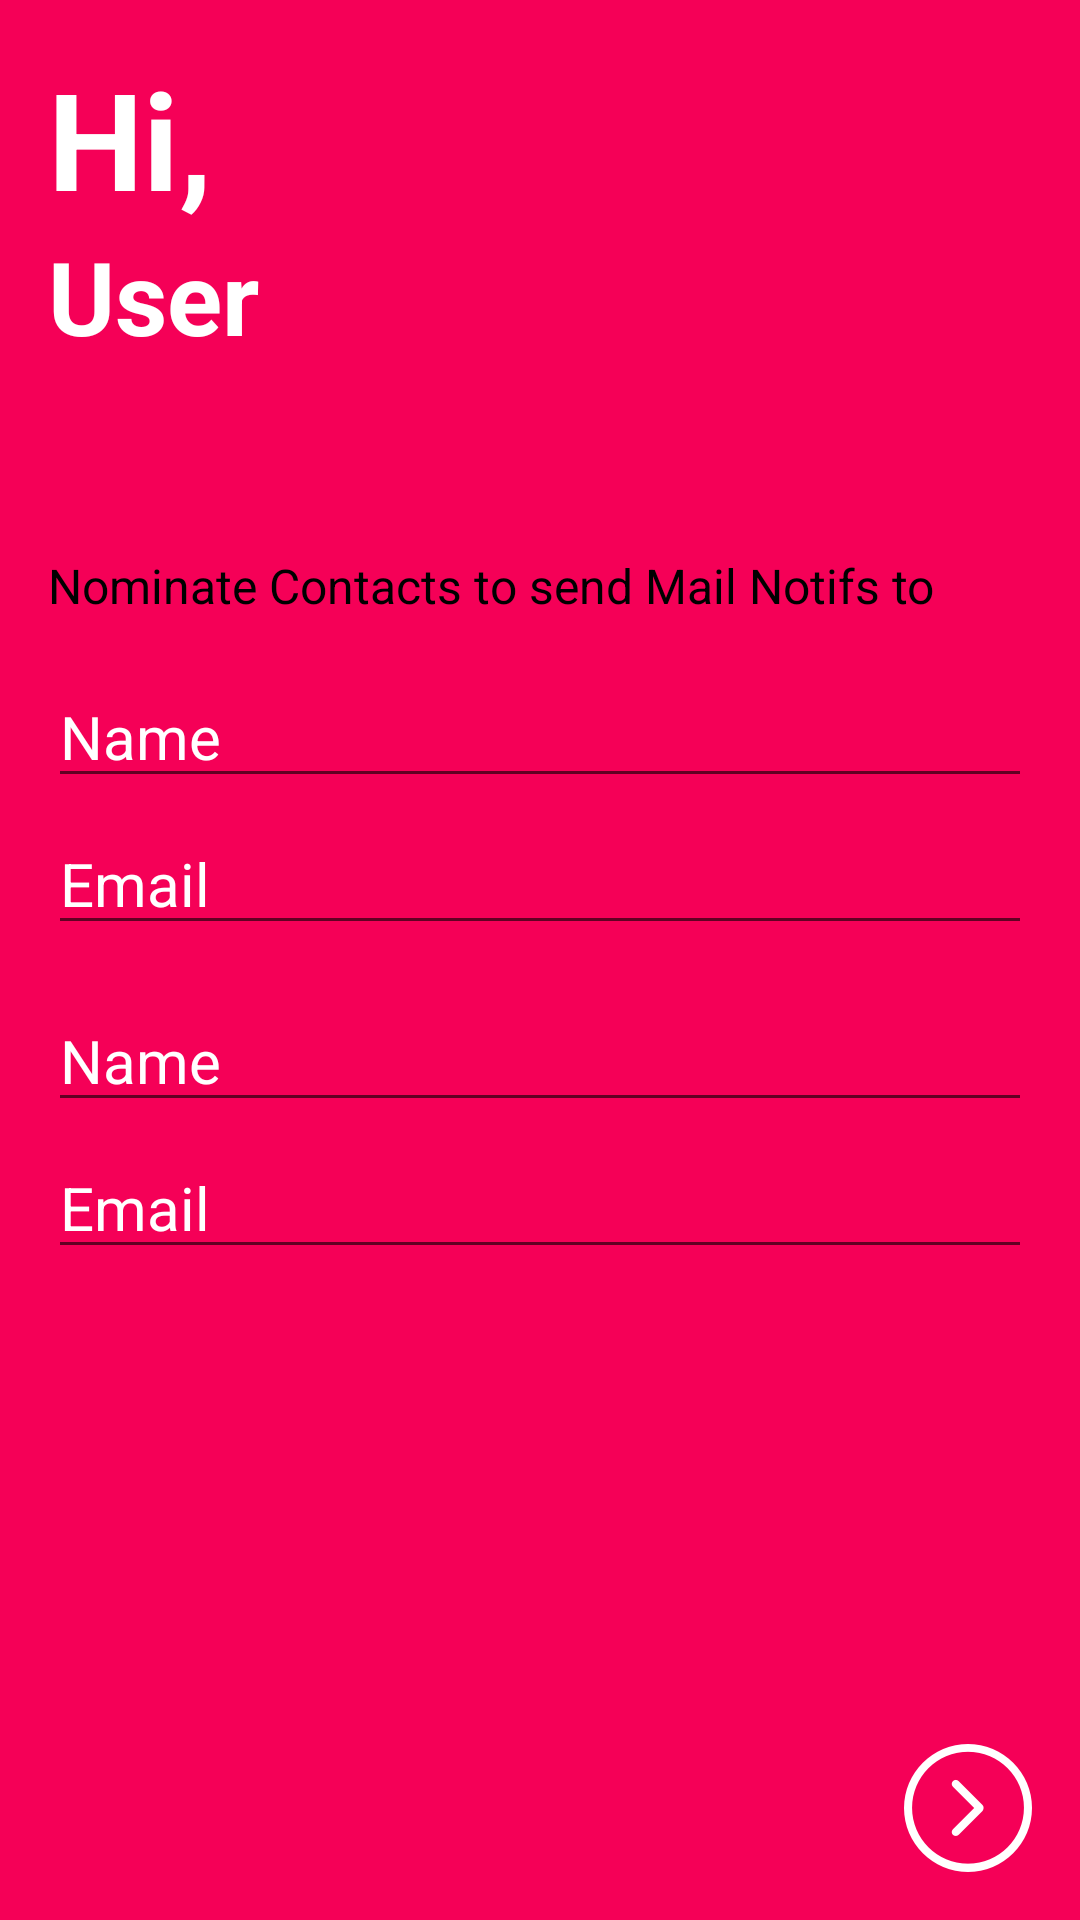

Where to tap for icons on this 1080px×1920px app screen, as [x,y]:
next: [968,1808]
